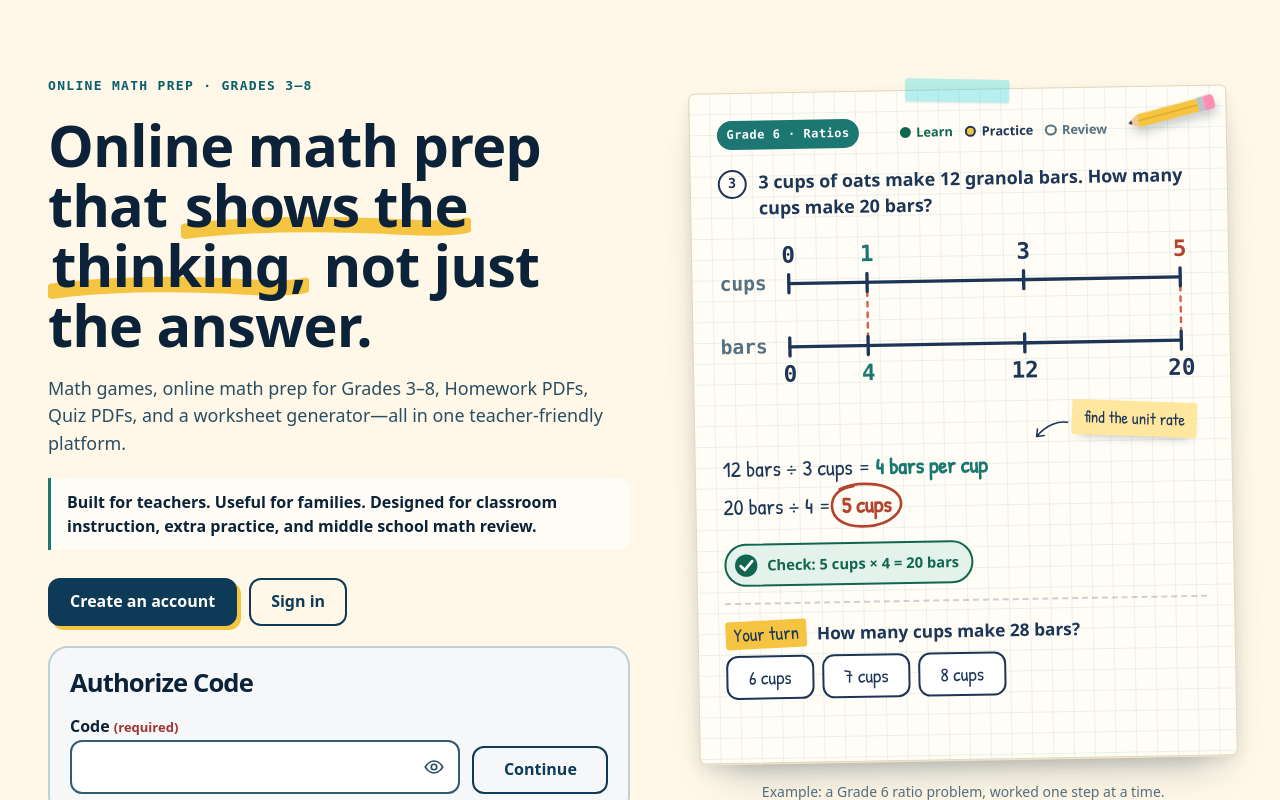
Test: teacher-first public homepage › hands the visitor a problem of their own: feedback shows the reasoning, nothing is sent
Click the button "6 cups" at [771, 678], box [726,655,815,700]
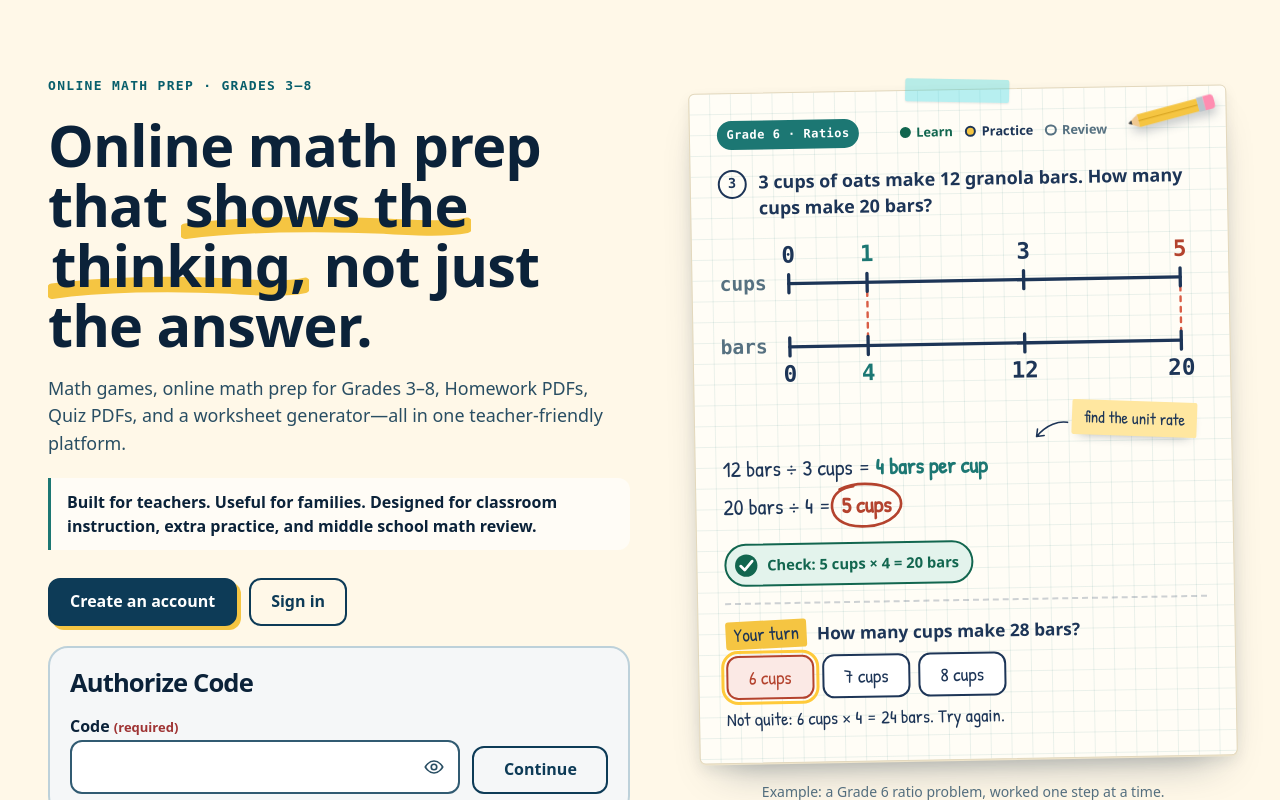
Expected: the element "Your turn How many cups make 28 bars?" shows "Not quite: 6 cups × 4 = 24 bars. Try again.", [727,703,1005,732]
Click the button "8 cups" at [963, 674], box [918,652,1007,697]
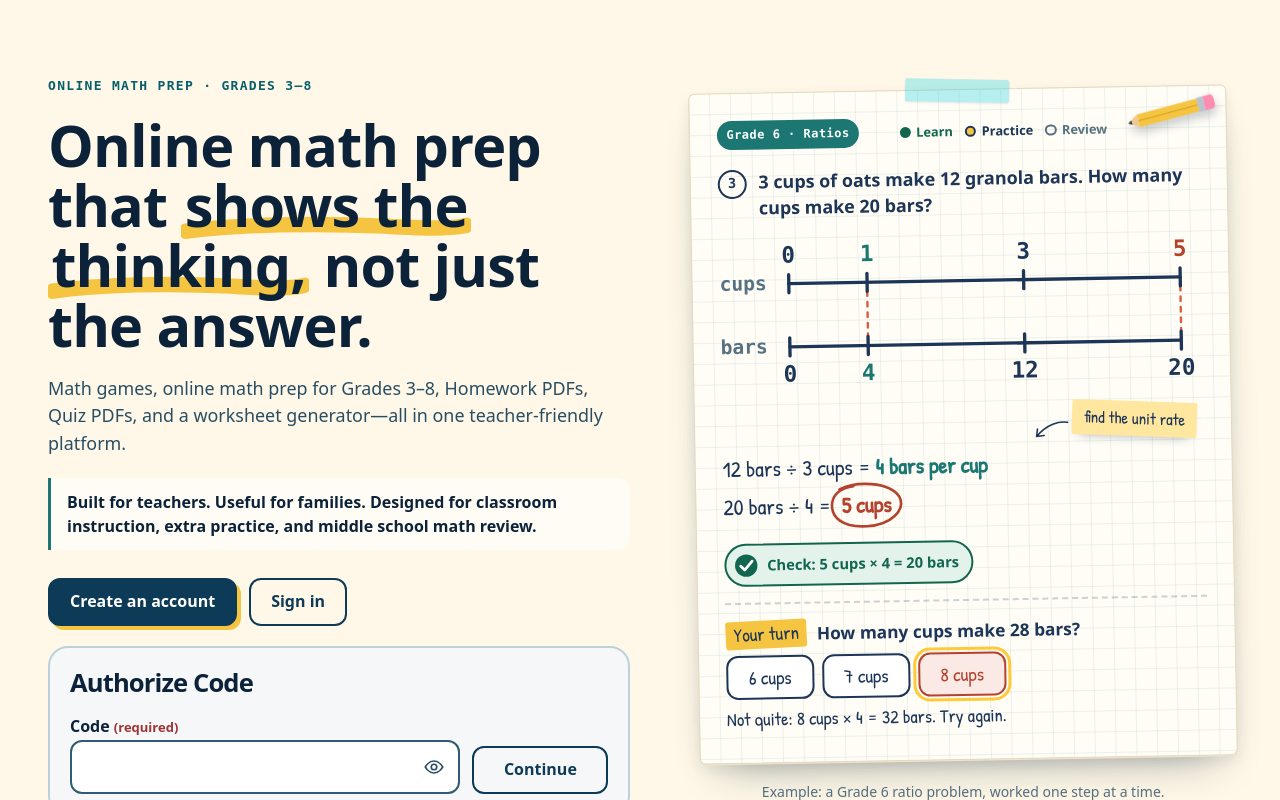
Expected: the element "Your turn How many cups make 28 bars?" shows "Not quite: 8 cups × 4 = 32 bars. Try again.", [727,703,1007,732]
Click the button "7 cups" at [867, 676], box [822,653,911,699]
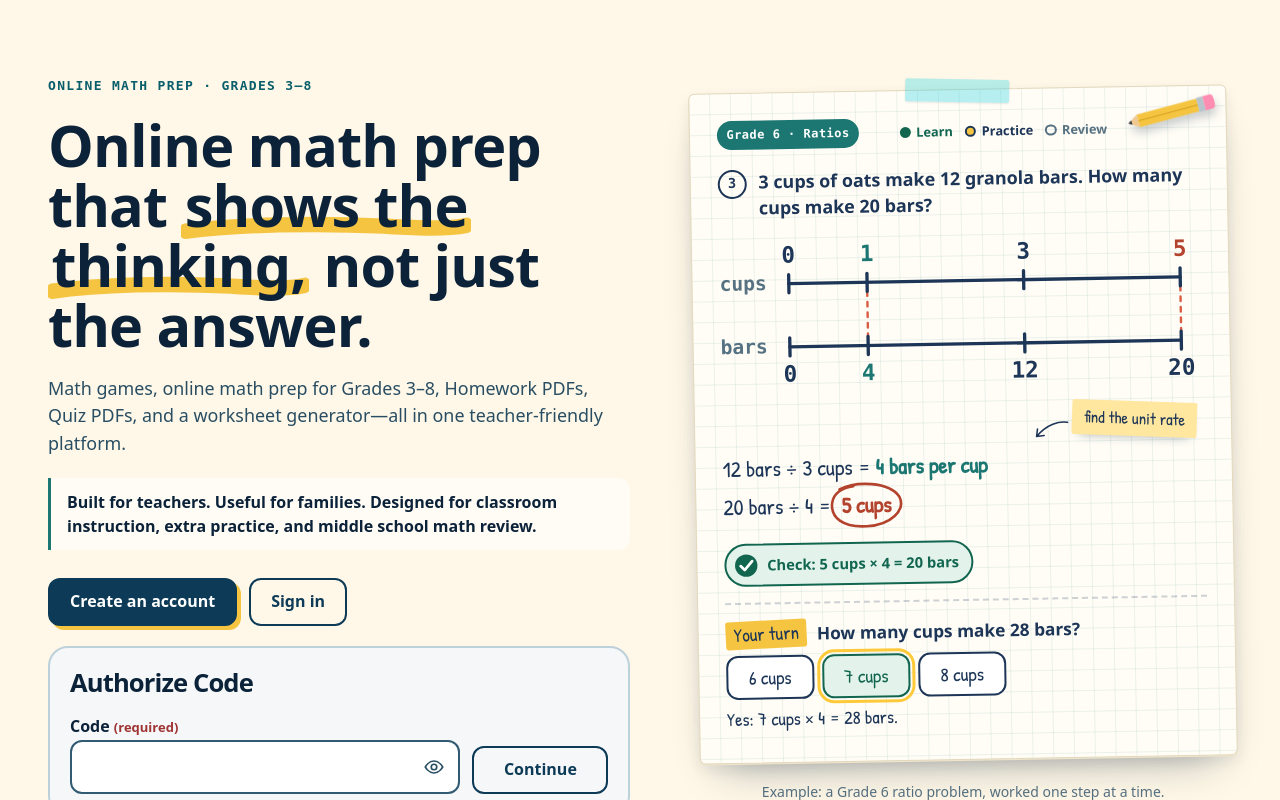
Expected: the element "Your turn How many cups make 28 bars?" shows "Yes: 7 cups × 4 = 28 bars.", [727,704,898,732]
